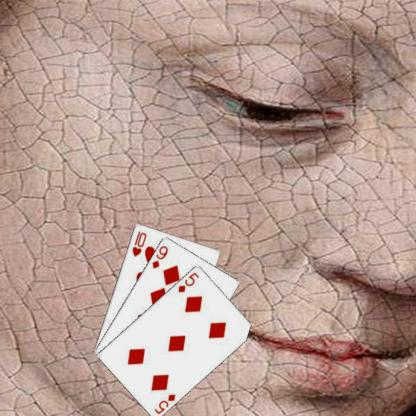10H: (130, 228, 147, 258)
5D: (151, 392, 177, 416), (176, 270, 200, 294)
9D: (150, 243, 170, 269)
